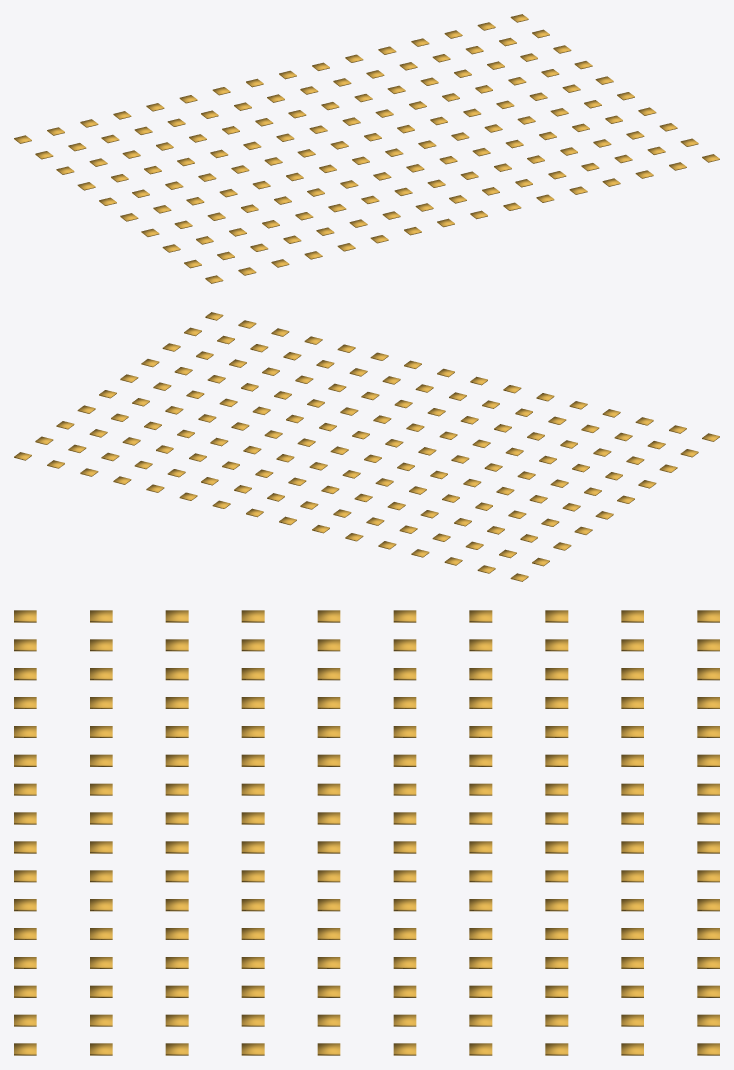
File: 106_L104_U3_BGA_ContactFootprint.fbx
The picture shows the model from 3 angles, top to bottom: view 1: azimuth 30°, elevation 25°; view 2: azimuth 150°, elevation 25°; view 3: azimuth 270°, elevation 25°; orthographic projection. The views are drawn at different scales.
Parts seen in each view (by area): view 1: U3_BGA_ContactFootprint_gold; view 2: U3_BGA_ContactFootprint_gold; view 3: U3_BGA_ContactFootprint_gold.
Boxes of the visible parts, x1=… form: U3_BGA_ContactFootprint_gold: x1=14, y1=14, x2=719, y2=283; U3_BGA_ContactFootprint_gold: x1=14, y1=312, x2=719, y2=581; U3_BGA_ContactFootprint_gold: x1=14, y1=610, x2=719, y2=1055.
Bounding box in the file's own units: 0.0184 × 4e-05 × 0.0124.
